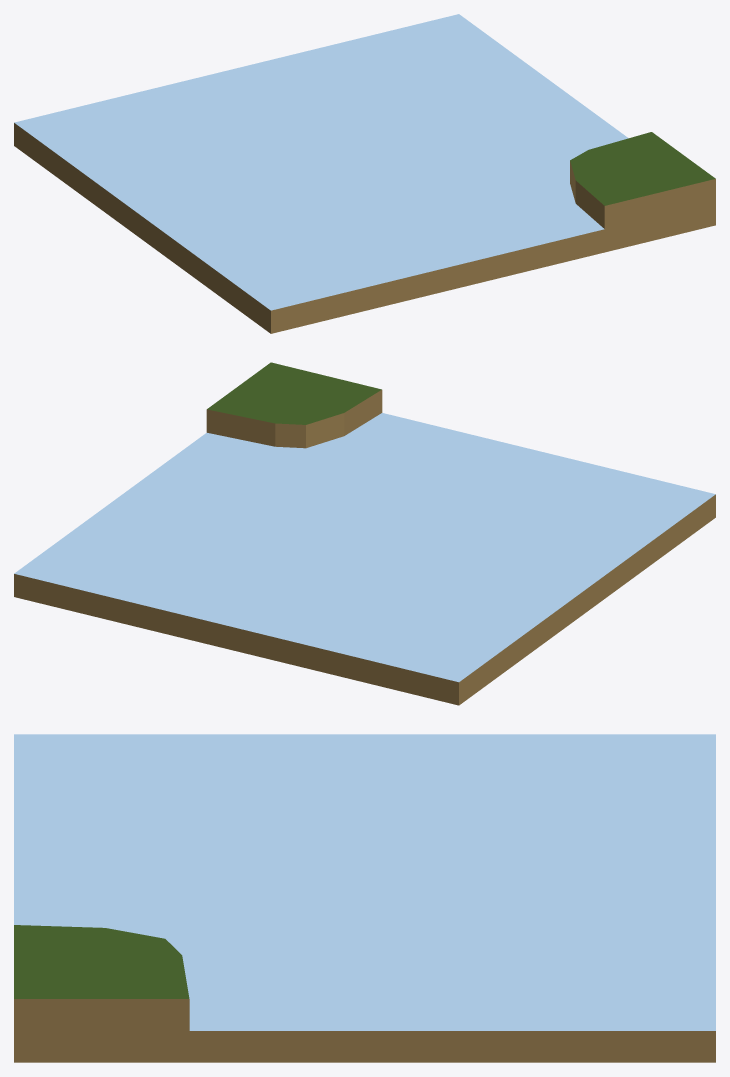
The model's file is Terrain_Modular_Tiles_Grass_Dirt_Water_Edge_Corner_Inner_03.fbx.
3 renders of one model, top to bottom at view 1: azimuth 30°, elevation 25°; view 2: azimuth 150°, elevation 25°; view 3: azimuth 270°, elevation 25°, orthographic. The views are drawn at different scales.
Parts seen in each view (by area): view 1: Terrain_Modular_Tiles_Grass_Dirt_Water_Edge_Corner_Inner_03; view 2: Terrain_Modular_Tiles_Grass_Dirt_Water_Edge_Corner_Inner_03; view 3: Terrain_Modular_Tiles_Grass_Dirt_Water_Edge_Corner_Inner_03.
Part boxes in pixels (x1,y1,x2,y2): Terrain_Modular_Tiles_Grass_Dirt_Water_Edge_Corner_Inner_03: (14, 14, 715, 333); Terrain_Modular_Tiles_Grass_Dirt_Water_Edge_Corner_Inner_03: (14, 362, 715, 705); Terrain_Modular_Tiles_Grass_Dirt_Water_Edge_Corner_Inner_03: (14, 734, 715, 1062).
Bounding box in the file's own units: 3000 × 300 × 3000.
